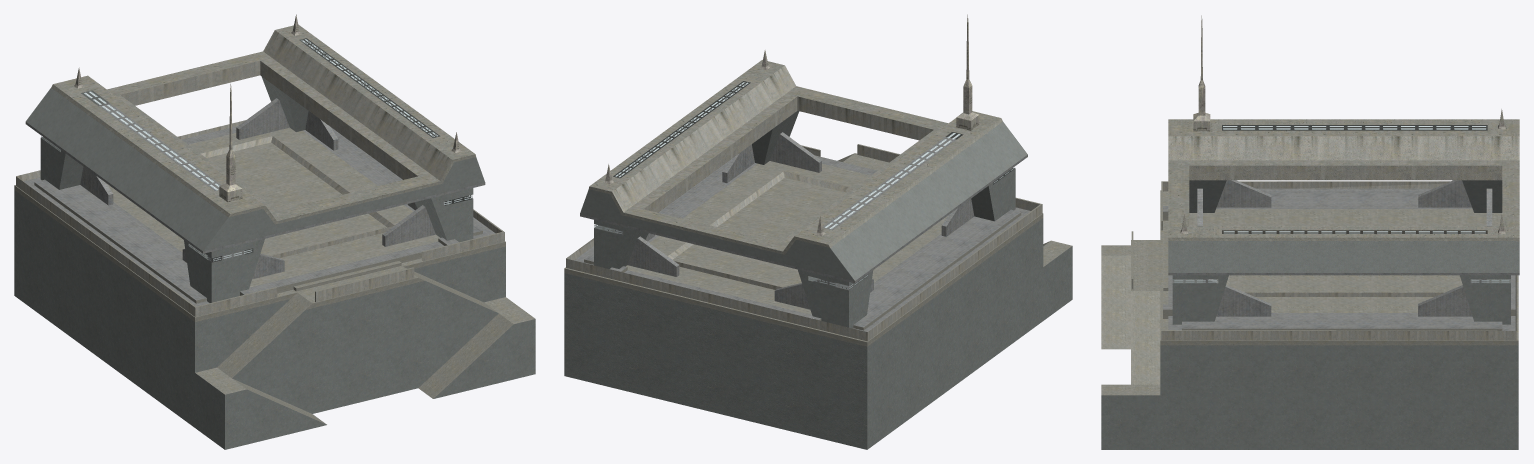
Rendered from ply_corl_shuttleport_s01_l1.fbx.
3 renders of one model, left to right at view 1: azimuth 30°, elevation 25°; view 2: azimuth 150°, elevation 25°; view 3: azimuth 270°, elevation 25°, orthographic. The views are drawn at different scales.
Visible parts, largest first — view 1: mesh_node; view 2: mesh_node; view 3: mesh_node.
Boxes of the visible parts, <box> form: mesh_node: <box>14,14,535,449</box>; mesh_node: <box>564,14,1072,449</box>; mesh_node: <box>1101,15,1519,449</box>.
Bounding box in the file's own units: 31.92 × 31.06 × 37.6.
